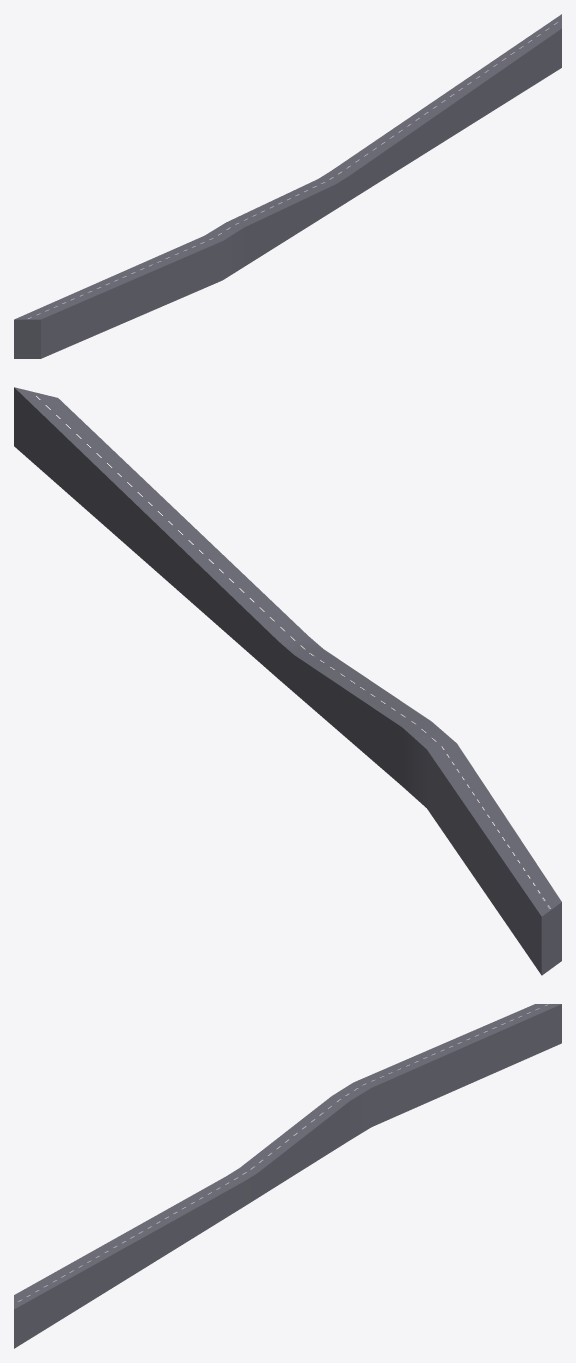
The model's file is road_2.fbx.
3 views of the same model, one above another, from view 1: azimuth 90°, elevation 25°; view 2: azimuth 150°, elevation 25°; view 3: azimuth 270°, elevation 25° (orthographic). The views are drawn at different scales.
Visible parts, largest first — view 1: road_2; view 2: road_2; view 3: road_2.
Boxes of the visible parts, x1,y1,x2,y2 form: road_2: (14,14,561,358); road_2: (14,387,561,975); road_2: (14,1004,561,1348).
Bounding box in the file's own units: 40.57 × 2.44 × 30.75.
1 material, 1 textured.
